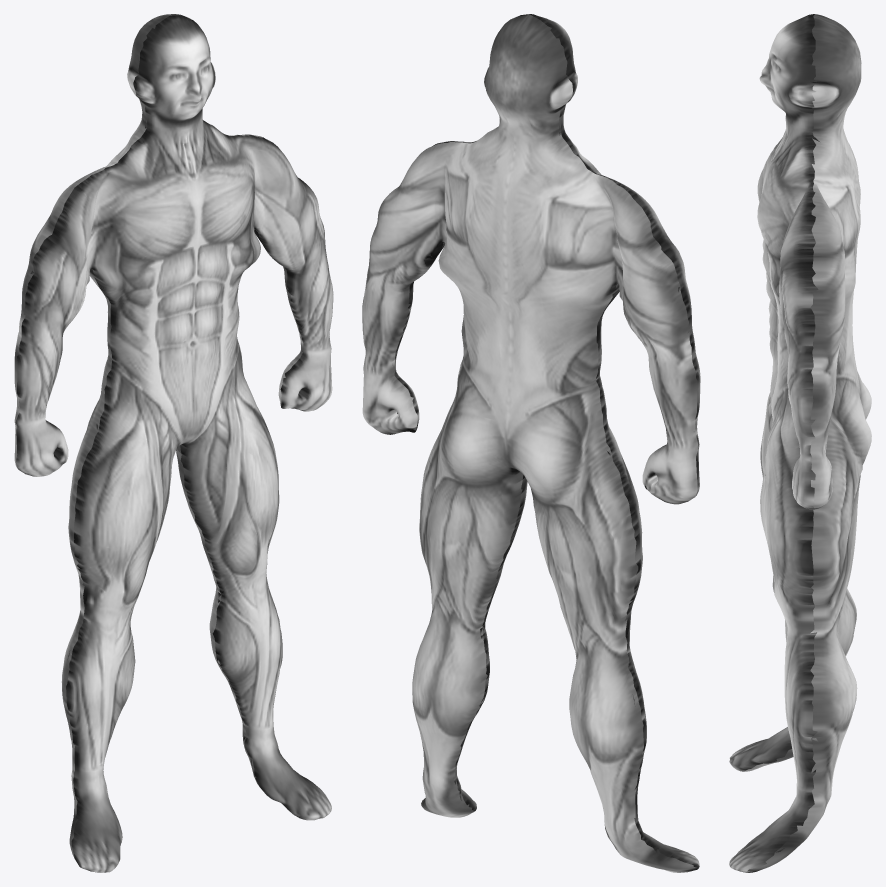
Rendered from body.glb.
3 views of the same model, side by side, from view 1: azimuth 30°, elevation 25°; view 2: azimuth 150°, elevation 25°; view 3: azimuth 270°, elevation 25° (orthographic). The views are drawn at different scales.
Parts seen in each view (by area): view 1: Anatomy; view 2: Anatomy; view 3: Anatomy.
Part boxes in pixels (x1,y1,x2,y2): Anatomy: [14, 14, 333, 872]; Anatomy: [362, 14, 700, 872]; Anatomy: [729, 14, 871, 872].
Bounding box in the file's own units: 0.7332 × 1.8 × 0.2894.
Materials: 12 (12 with a texture image).
